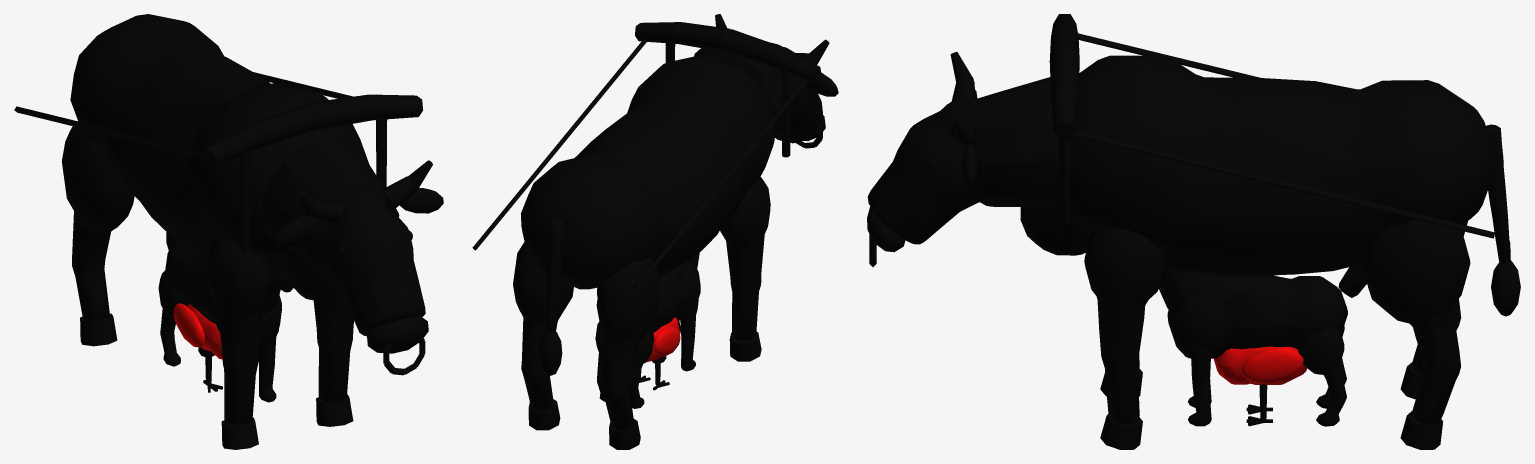
Rendered from fbeasts.glb.
3 views of the same model, side by side, from view 1: azimuth 30°, elevation 25°; view 2: azimuth 150°, elevation 25°; view 3: azimuth 270°, elevation 25° (orthographic). The views are drawn at different scales.
Visible parts, largest first — view 1: ox_body, ox_head, ox_yoke, ox_legBL, ox_legFL, ox_legFR, dog_body, dog_legBL, dog_legFR, ox_earL, hen_wingL, ox_earR (+2 smaller); view 2: ox_body, ox_yoke, ox_legBL, ox_legFL, ox_legBR, ox_head, ox_tail, dog_body, dog_legBL, dog_legFL, hen_wingL, ox_earL (+1 smaller); view 3: ox_body, ox_head, ox_legBR, dog_body, ox_legFR, ox_yoke, ox_tail, dog_legBR, hen_wingR, dog_legFR, dog_head, hen_body (+2 smaller).
Boxes of the visible parts, x1=… form: ox_body: x1=70, y1=14, x2=368, y2=301; ox_head: x1=261, y1=139, x2=432, y2=375; ox_yoke: x1=14, y1=72, x2=422, y2=253; ox_legBL: x1=61, y1=121, x2=134, y2=346; ox_legFL: x1=207, y1=237, x2=269, y2=449; ox_legFR: x1=313, y1=288, x2=353, y2=426; dog_body: x1=165, y1=241, x2=281, y2=349; dog_legBL: x1=158, y1=270, x2=188, y2=366; dog_legFR: x1=258, y1=327, x2=279, y2=402; ox_earL: x1=274, y1=215, x2=318, y2=247; hen_wingL: x1=173, y1=303, x2=204, y2=347; ox_earR: x1=399, y1=188, x2=443, y2=213; ox_body: x1=521, y1=54, x2=774, y2=289; ox_yoke: x1=472, y1=22, x2=820, y2=289; ox_legBL: x1=596, y1=256, x2=660, y2=449; ox_legFL: x1=720, y1=177, x2=770, y2=361; ox_legBR: x1=513, y1=242, x2=573, y2=430; ox_head: x1=711, y1=14, x2=829, y2=148; ox_tail: x1=538, y1=218, x2=565, y2=375; dog_body: x1=649, y1=262, x2=700, y2=332; dog_legBL: x1=629, y1=328, x2=654, y2=408; dog_legFL: x1=680, y1=300, x2=698, y2=371; hen_wingL: x1=654, y1=326, x2=680, y2=356; ox_earL: x1=802, y1=72, x2=838, y2=96; ox_body: x1=1020, y1=55, x2=1494, y2=276; ox_head: x1=867, y1=52, x2=1059, y2=266; ox_legBR: x1=1361, y1=219, x2=1470, y2=449; dog_body: x1=1167, y1=274, x2=1347, y2=358; ox_legFR: x1=1084, y1=227, x2=1165, y2=449; ox_yoke: x1=1049, y1=14, x2=1494, y2=238; ox_tail: x1=1484, y1=124, x2=1520, y2=316; dog_legBR: x1=1298, y1=325, x2=1346, y2=426; hen_wingR: x1=1241, y1=348, x2=1303, y2=383; dog_legFR: x1=1186, y1=343, x2=1214, y2=426; dog_head: x1=1158, y1=269, x2=1206, y2=313; hen_body: x1=1214, y1=346, x2=1307, y2=384.
Size of the model in its own units: 1.12 by 1.78 by 2.83.
1 material, 1 textured.
